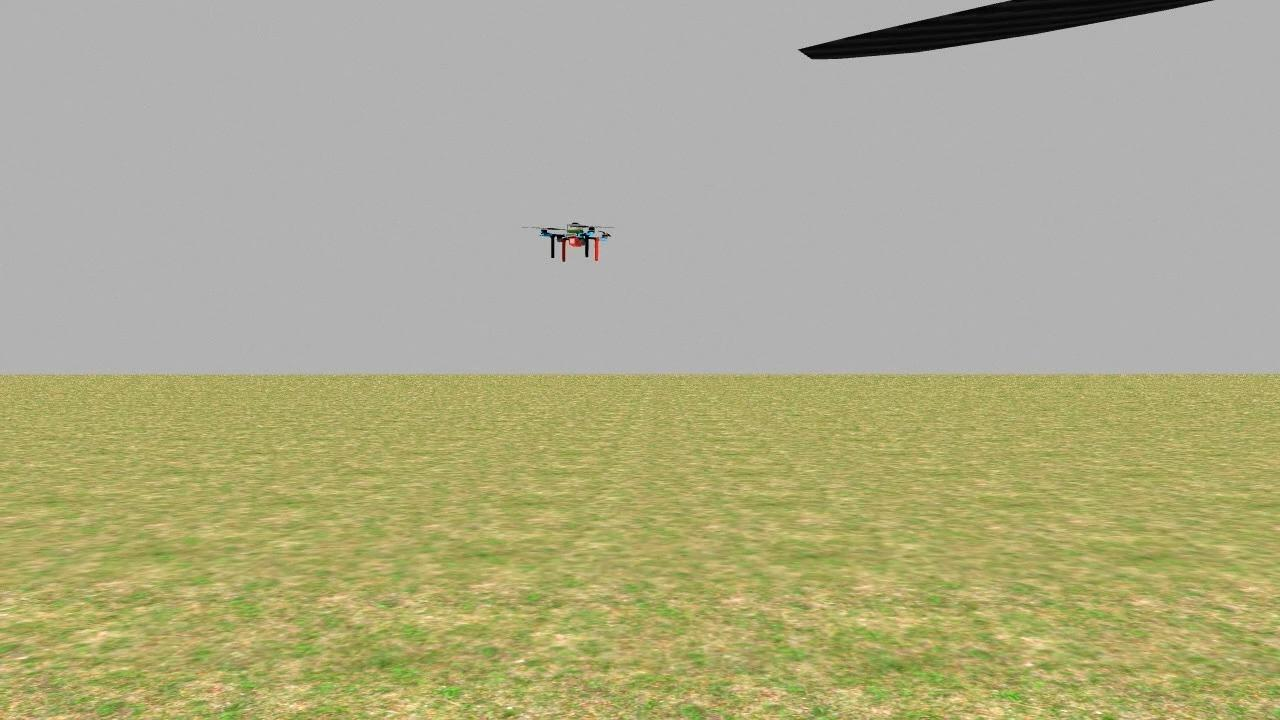UAV: (531, 206, 617, 276)
